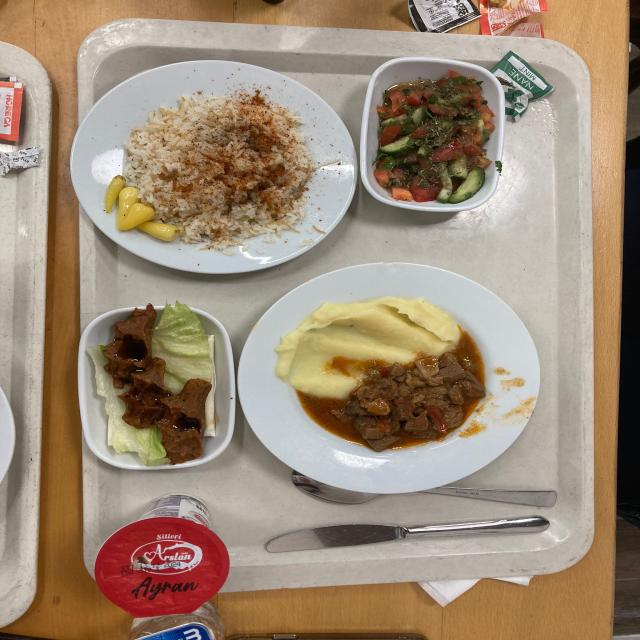ana_yemek: (69, 51, 353, 289), (265, 272, 525, 494)
yan_yemek: (78, 301, 237, 480), (357, 56, 495, 216)
